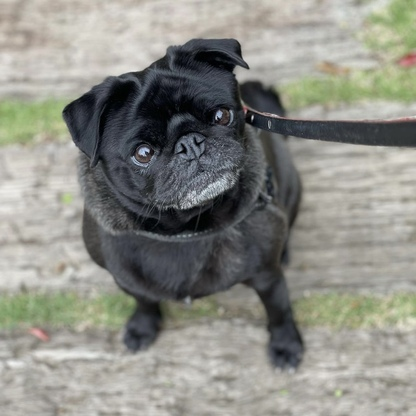Pug: (58, 32, 313, 374)
